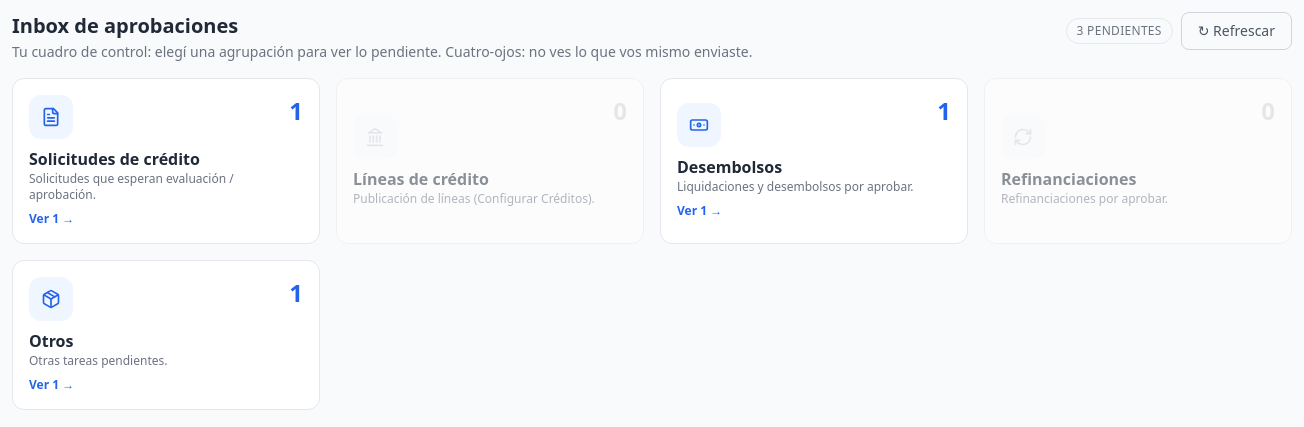
Test: Inbox de aprobaciones › aprueba una tarea inline y avisa si quedó ejecutada
Step 1. Click the button "Solicitudes de crédito" → (166, 161), box x1=12 y1=78 x2=320 y2=244
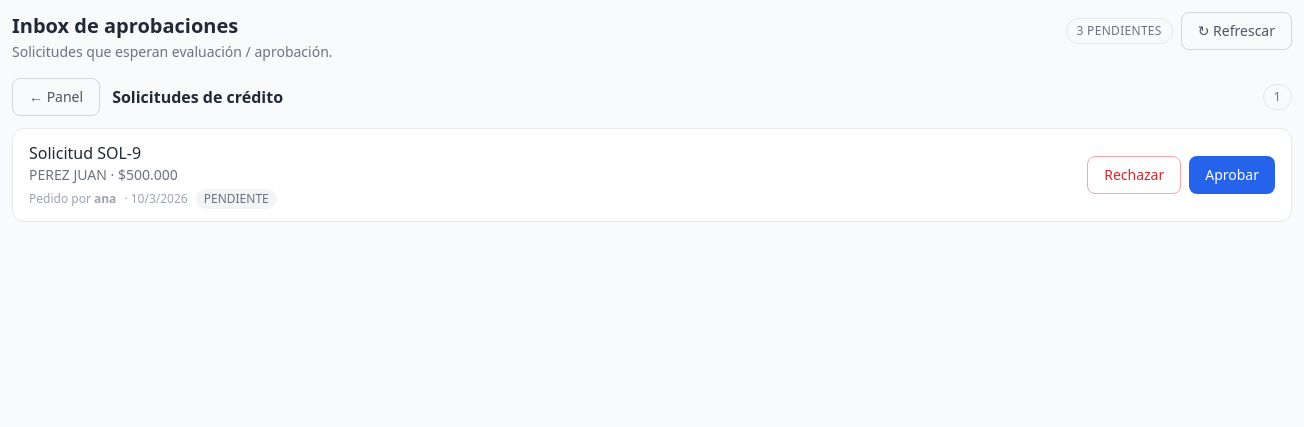
Step 2. Click the button "Aprobar" → (1232, 175), box x1=1189 y1=156 x2=1275 y2=194
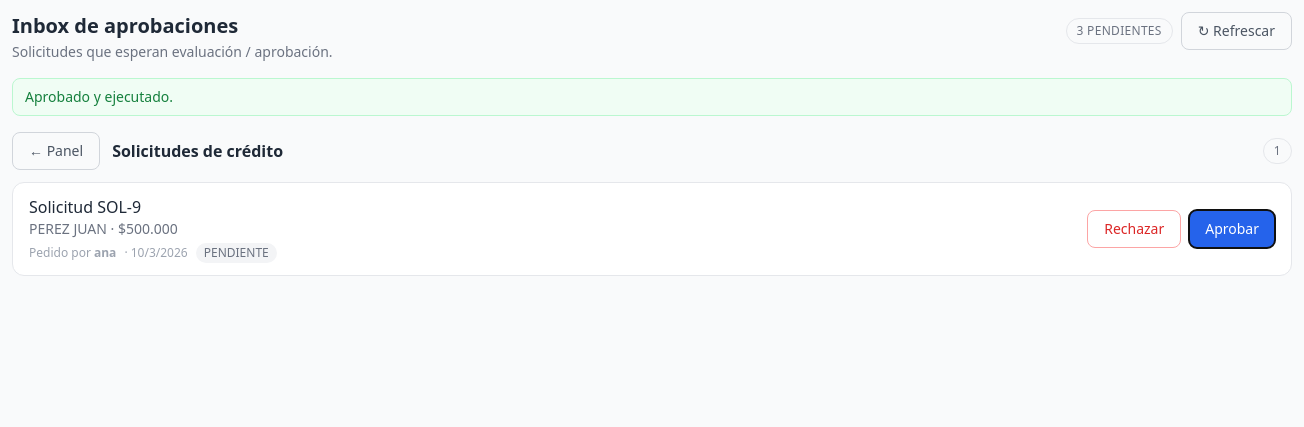
Check: the text "Aprobado y ejecutado." is shown, box x1=12 y1=78 x2=1292 y2=116
